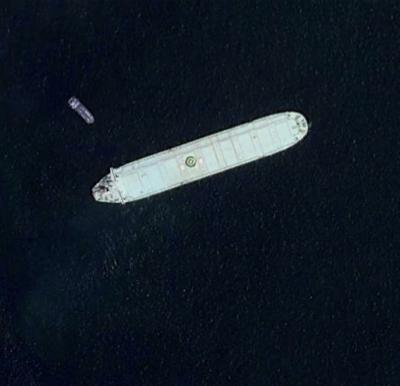Ships: (95, 109, 322, 205), (65, 87, 111, 143)
